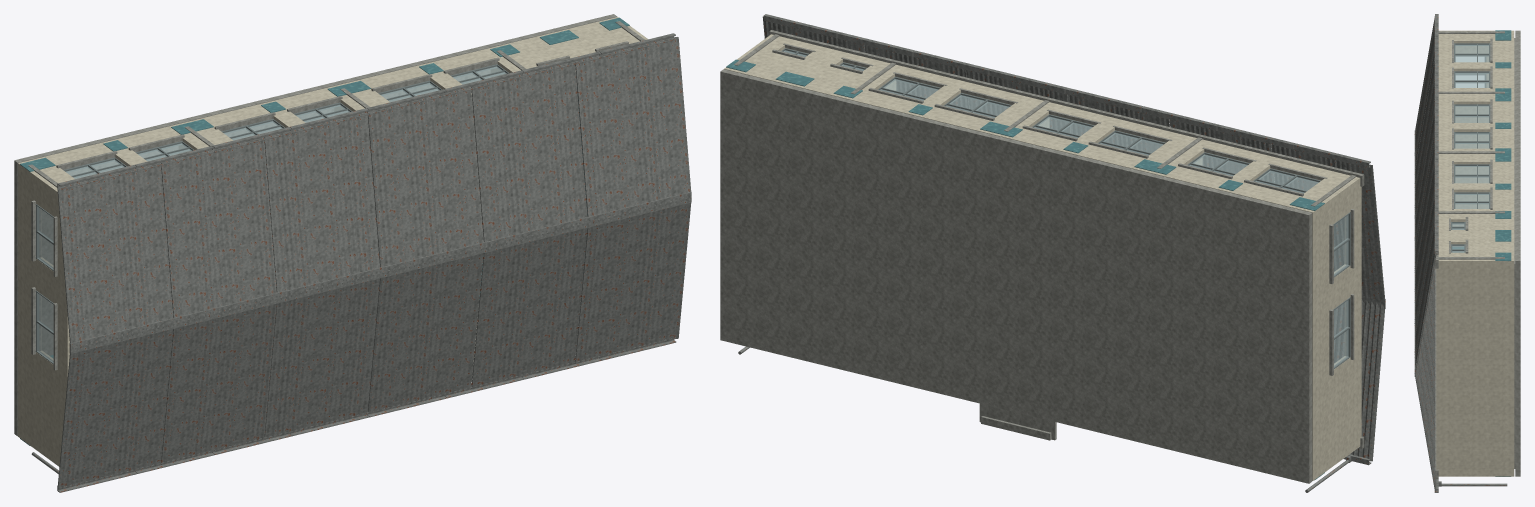
The model's file is PROJECT_Z_VillageSchool.glb.
The picture shows the model from 3 angles, left to right: view 1: azimuth 30°, elevation 25°; view 2: azimuth 150°, elevation 25°; view 3: azimuth 270°, elevation 25°; orthographic projection. The views are drawn at different scales.
Visible parts, largest first — view 1: RENDER_SM_RoofCorrugated_Rear_Panel05, RENDER_SM_RoofCorrugated_Rear_Panel01, RENDER_SM_RoofCorrugated_Rear_Panel04, RENDER_SM_RoofCorrugated_Rear_Panel06, RENDER_SM_RoofCorrugated_Rear_Panel02, RENDER_SM_RoofCorrugated_Rear_Panel03, RENDER_SM_RoofCorrugated_Front_Panel05, RENDER_SM_RoofCorrugated_Front_Panel06, RENDER_SM_RoofCorrugated_Front_Panel01, RENDER_SM_RoofCorrugated_Front_Panel04, RENDER_SM_RoofCorrugated_Front_Panel02, RENDER_SM_RoofCorrugated_Front_Panel03 (+16 smaller); view 2: RENDER_SM_Foundation_ConcreteBase, RENDER_SM_RearWall_Apertures, RENDER_SM_WestWall_Apertures, RENDER_SM_RoofCorrugated_Rear_Panel01, RENDER_SM_RoofCorrugated_Front_Panel01, RENDER_SM_Roofline_ConcreteRingBeams, RENDER_SM_Rear_TealLowerPaint, RENDER_SM_RoofCorrugated_Rear_Panel03, RENDER_SM_RoofCorrugated_Rear_Panel04, RENDER_SM_RoofCorrugated_Rear_Panel02, RENDER_SM_RoofCorrugated_Rear_Panel05, RENDER_SM_Exterior_ReinforcedPiers (+6 smaller); view 3: RENDER_SM_EastWall_Solid, RENDER_SM_RearWall_Apertures, RENDER_SM_Foundation_ConcreteBase, RENDER_SM_Rear_TealLowerPaint, RENDER_SM_RoofCorrugated_Rear_Panel06, RENDER_SM_Exterior_ReinforcedPiers, RENDER_SM_RoofCorrugated_Front_Panel06, RENDER_SM_Interior_SeparationWall_1, RENDER_SM_RoofCorrugated_Rear_Panel01, RENDER_SM_Interior_SeparationWall_2, RENDER_SM_RoofCorrugated_Rear_Panel02, RENDER_SM_RoofCorrugated_Rear_Panel03 (+32 smaller).
Boxes of the visible parts, x1,y1,x2,y2 form: RENDER_SM_RoofCorrugated_Rear_Panel05: (471, 62, 587, 247); RENDER_SM_RoofCorrugated_Rear_Panel01: (57, 163, 173, 348); RENDER_SM_RoofCorrugated_Rear_Panel04: (367, 87, 483, 272); RENDER_SM_RoofCorrugated_Rear_Panel06: (575, 37, 691, 221); RENDER_SM_RoofCorrugated_Rear_Panel02: (161, 137, 276, 322); RENDER_SM_RoofCorrugated_Rear_Panel03: (264, 112, 379, 297); RENDER_SM_RoofCorrugated_Front_Panel05: (471, 223, 587, 388); RENDER_SM_RoofCorrugated_Front_Panel06: (575, 197, 691, 363); RENDER_SM_RoofCorrugated_Front_Panel01: (57, 324, 173, 489); RENDER_SM_RoofCorrugated_Front_Panel04: (368, 249, 483, 413); RENDER_SM_RoofCorrugated_Front_Panel02: (161, 299, 276, 464); RENDER_SM_RoofCorrugated_Front_Panel03: (264, 274, 379, 439); RENDER_SM_Foundation_ConcreteBase: (720, 69, 1312, 483); RENDER_SM_RearWall_Apertures: (724, 34, 1360, 218); RENDER_SM_WestWall_Apertures: (1312, 184, 1361, 474); RENDER_SM_RoofCorrugated_Rear_Panel01: (1271, 144, 1384, 303); RENDER_SM_RoofCorrugated_Front_Panel01: (1334, 299, 1384, 461); RENDER_SM_Roofline_ConcreteRingBeams: (769, 30, 1364, 448); RENDER_SM_Rear_TealLowerPaint: (726, 59, 1324, 210); RENDER_SM_RoofCorrugated_Rear_Panel03: (1067, 95, 1169, 153); RENDER_SM_RoofCorrugated_Rear_Panel04: (966, 70, 1070, 133); RENDER_SM_RoofCorrugated_Rear_Panel02: (1169, 119, 1274, 183); RENDER_SM_RoofCorrugated_Rear_Panel05: (864, 45, 969, 108); RENDER_SM_Exterior_ReinforcedPiers: (734, 34, 1356, 206); RENDER_SM_EastWall_Solid: (1436, 266, 1514, 471); RENDER_SM_RearWall_Apertures: (1438, 30, 1514, 266); RENDER_SM_Foundation_ConcreteBase: (1515, 30, 1520, 476); RENDER_SM_Rear_TealLowerPaint: (1495, 30, 1511, 261); RENDER_SM_RoofCorrugated_Rear_Panel06: (1415, 217, 1436, 371); RENDER_SM_Exterior_ReinforcedPiers: (1438, 31, 1504, 259); RENDER_SM_RoofCorrugated_Front_Panel06: (1415, 354, 1436, 491); RENDER_SM_Interior_SeparationWall_1: (1455, 106, 1488, 148); RENDER_SM_RoofCorrugated_Rear_Panel01: (1415, 16, 1434, 168); RENDER_SM_Interior_SeparationWall_2: (1455, 167, 1488, 208); RENDER_SM_RoofCorrugated_Rear_Panel02: (1415, 59, 1434, 208); RENDER_SM_RoofCorrugated_Rear_Panel03: (1415, 99, 1434, 248).
Size of the model in its own units: 24.24 by 11.61 by 4.55.
11 materials, 7 textured.
